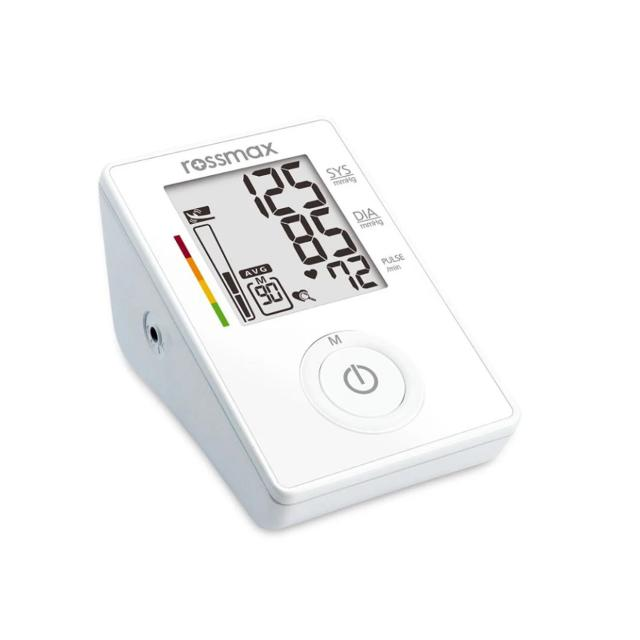dia: (274, 196, 364, 271)
pul: (321, 247, 387, 302)
ssd: (157, 113, 389, 363)
sys: (235, 150, 333, 226)
